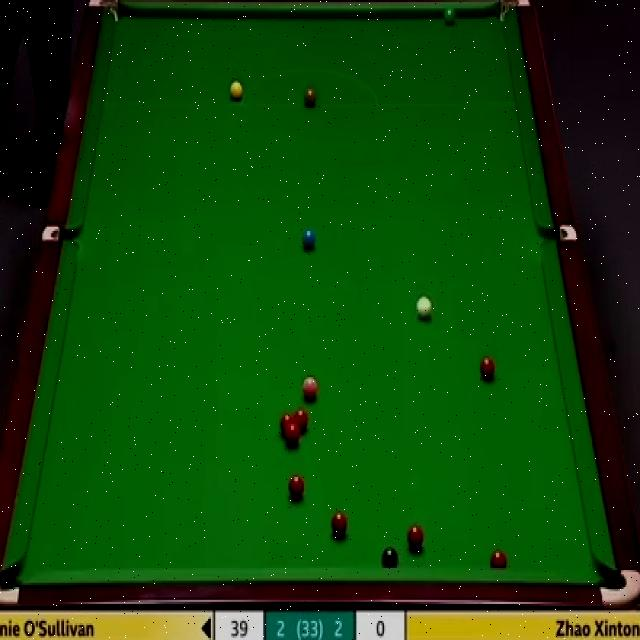black-ball: (382, 548, 401, 570)
blue-ball: (303, 229, 318, 252)
brown-ball: (304, 84, 316, 106)
green-ball: (443, 4, 454, 24)
pink-ball: (304, 375, 318, 400)
red-ball: (406, 525, 425, 554), (292, 407, 309, 433), (287, 473, 304, 499), (331, 508, 347, 534), (286, 421, 300, 450), (479, 356, 494, 382), (490, 550, 508, 568), (281, 410, 294, 434)
white-ball: (416, 296, 433, 320)
yellow-ball: (229, 83, 242, 100)
